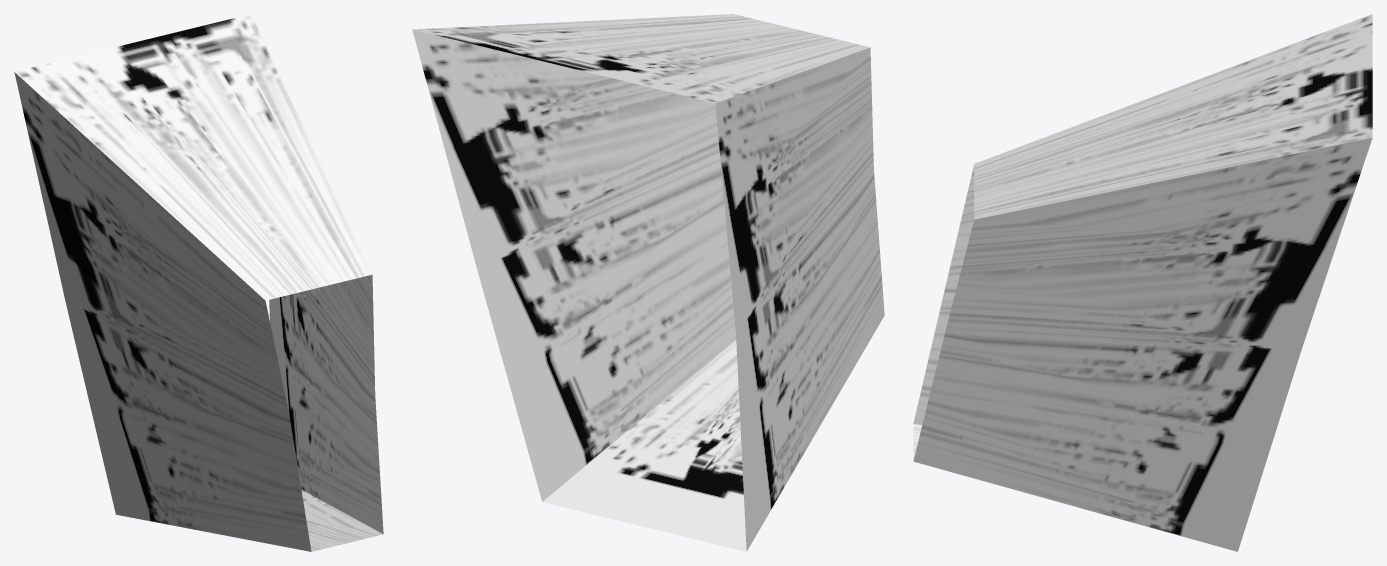
Rendered from Effect_ShockWave.FBX.
The picture shows the model from 3 angles, left to right: view 1: azimuth 30°, elevation 25°; view 2: azimuth 150°, elevation 25°; view 3: azimuth 270°, elevation 25°; orthographic projection. The views are drawn at different scales.
Visible parts, largest first — view 1: Effect_ShockWave; view 2: Effect_ShockWave; view 3: Effect_ShockWave.
Part boxes in pixels (x1=…): Effect_ShockWave: x1=14, y1=14, x2=383, y2=551; Effect_ShockWave: x1=412, y1=14, x2=884, y2=551; Effect_ShockWave: x1=913, y1=14, x2=1372, y2=551.
Bounding box in the file's own units: 2 × 3.28 × 3.14.
